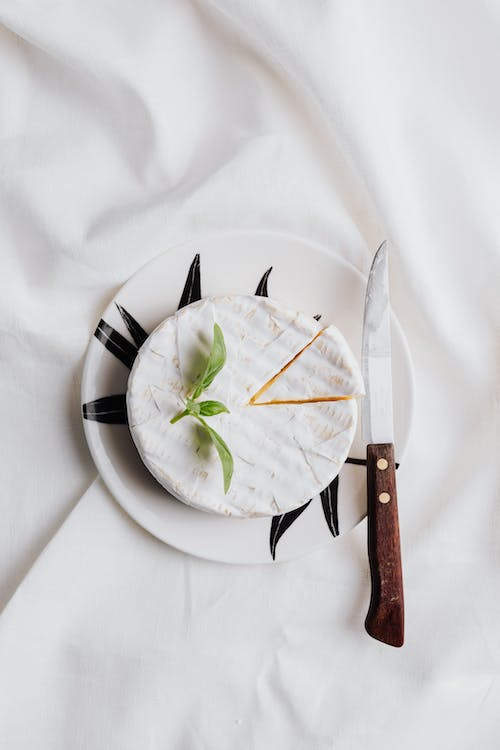knife: (359, 236, 406, 651)
